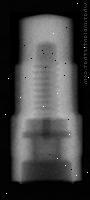DENTSPLY: (10, 12, 84, 183)
